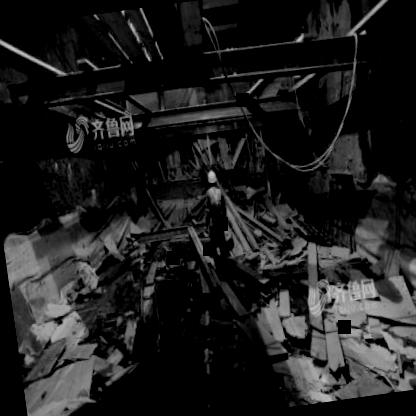helmet: (202, 164, 221, 192)
